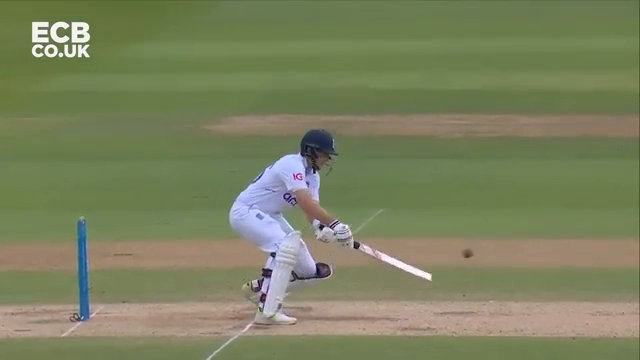batsman: (227, 129, 434, 323)
